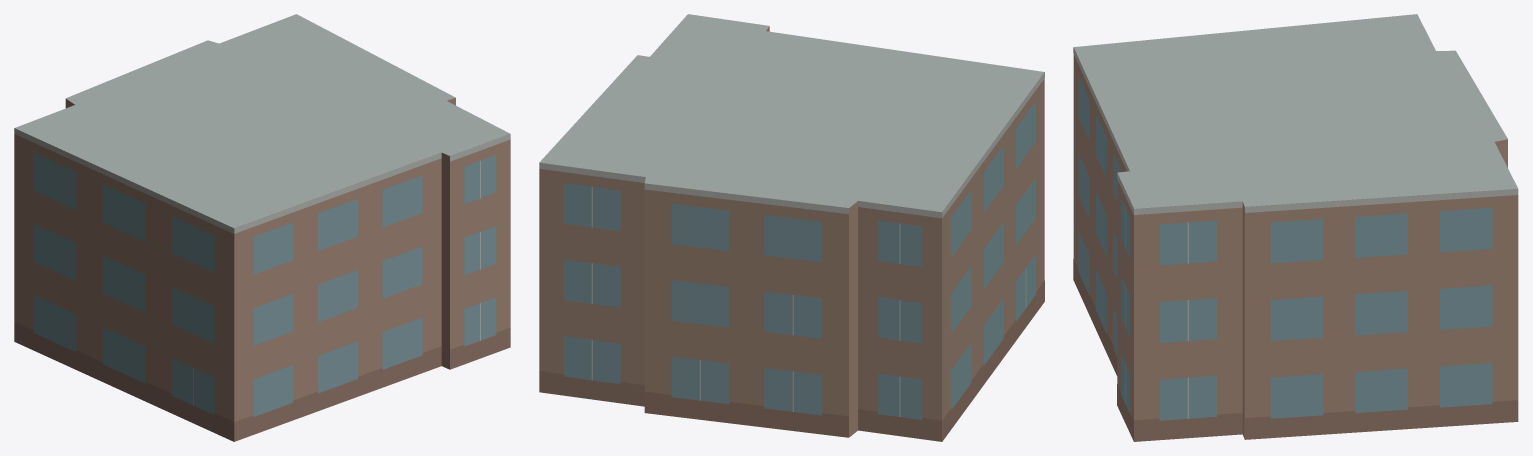
Rendered from survey-upis-32577393.glb.
3 renders of one model, left to right at view 1: azimuth 30°, elevation 25°; view 2: azimuth 150°, elevation 25°; view 3: azimuth 270°, elevation 25°, orthographic. The views are drawn at different scales.
Visible parts, largest first — view 1: survey-upis-32577393.tmp; view 2: survey-upis-32577393.tmp; view 3: survey-upis-32577393.tmp.
Boxes of the visible parts, x1=… form: survey-upis-32577393.tmp: x1=14, y1=14, x2=510, y2=441; survey-upis-32577393.tmp: x1=539, y1=14, x2=1044, y2=441; survey-upis-32577393.tmp: x1=1073, y1=14, x2=1518, y2=441.
Bounding box in the file's own units: 16.43 × 9.15 × 15.85.
